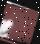dent: (0, 1, 40, 44)
